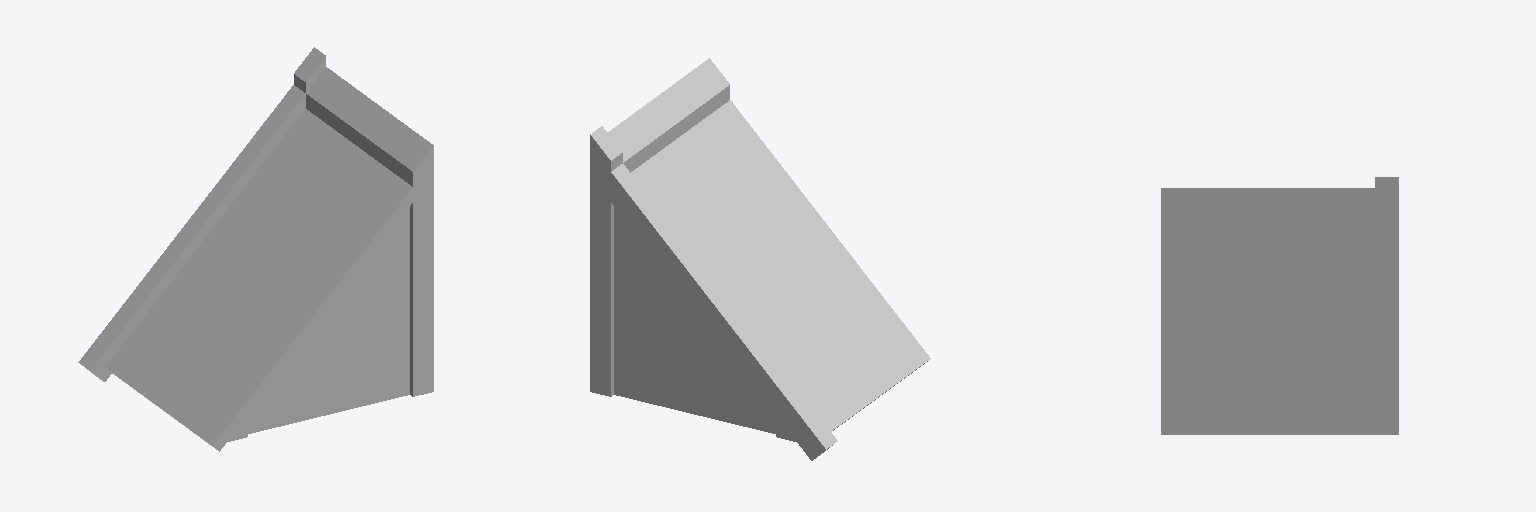
File: roof-high-left.obj
3 views of the same model, side by side, from view 1: azimuth 30°, elevation 25°; view 2: azimuth 150°, elevation 25°; view 3: azimuth 270°, elevation 25° (orthographic).
Visible parts, largest first — view 1: roof-high-left; view 2: roof-high-left; view 3: roof-high-left.
Boxes of the visible parts, x1,y1,x2,y2 form: roof-high-left: [78, 47, 433, 451]; roof-high-left: [590, 58, 930, 460]; roof-high-left: [1161, 177, 1398, 434].
Size of the model in its own units: 1.14 by 1.26 by 1.